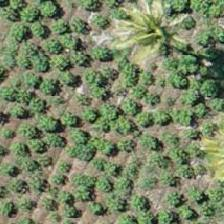coconut_tree: (104, 0, 194, 67)
